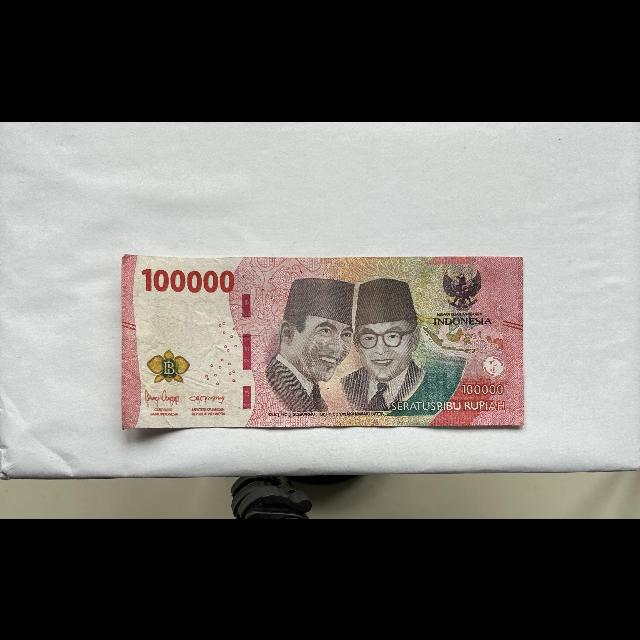Palsu-100k: (121, 251, 526, 429)
Tinta-Palsu-100k: (147, 348, 192, 383)
